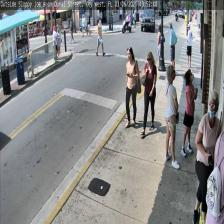person: (192, 90, 221, 224), (164, 65, 180, 168), (180, 68, 198, 156), (140, 51, 157, 137), (124, 47, 139, 127)
